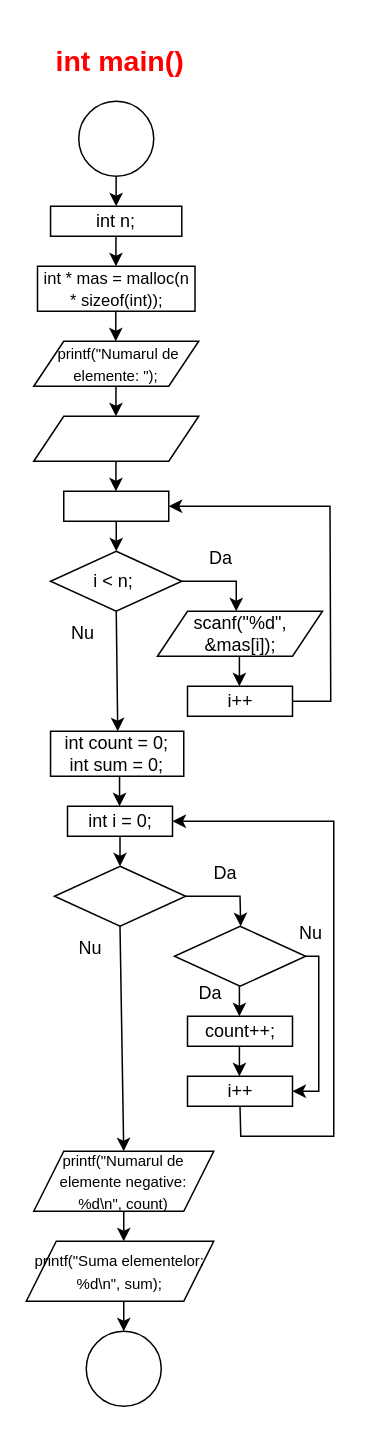
The diagram is 383 pixels wide and 1433 high, and some of its shapes have lost their labels. The shapes that lost their labels are listed below. From the top down, each one's centre as x and y in pixels, then its label:
(x=115, y=138): Start
(x=115, y=438): scanf("%d", &n);
(x=115, y=505): int i = 0
(x=119, y=895): i < n
(x=239, y=955): mas[i] < 0
(x=123, y=1368): return 0
